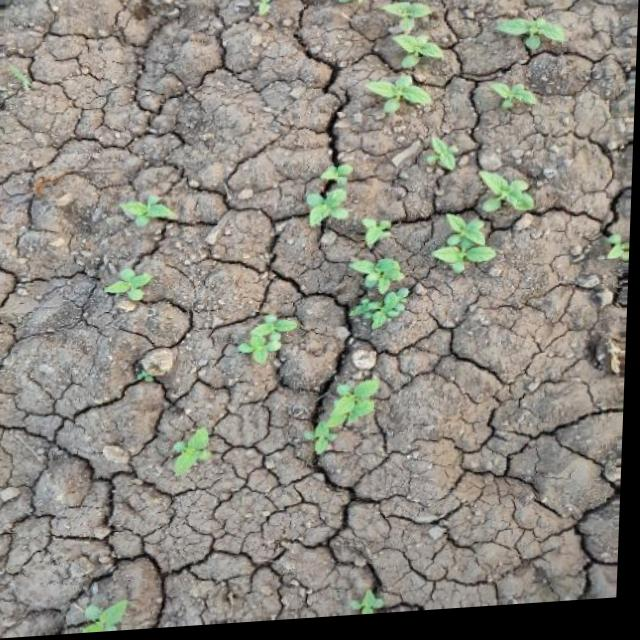crop: (434, 174, 545, 305), (308, 365, 404, 488), (362, 6, 449, 125), (351, 256, 416, 344), (487, 1, 568, 65), (165, 420, 228, 493), (238, 311, 305, 378), (302, 166, 357, 239), (124, 184, 181, 247), (478, 84, 544, 123), (102, 265, 159, 309)
